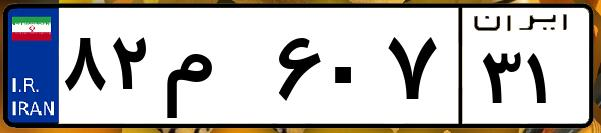0: (330, 28, 385, 110)
1: (525, 38, 570, 115)
2: (110, 28, 158, 98)
3: (475, 38, 525, 113)
6: (270, 28, 330, 110)
7: (385, 28, 445, 110)
8: (57, 26, 110, 100)
م: (158, 20, 270, 120)
